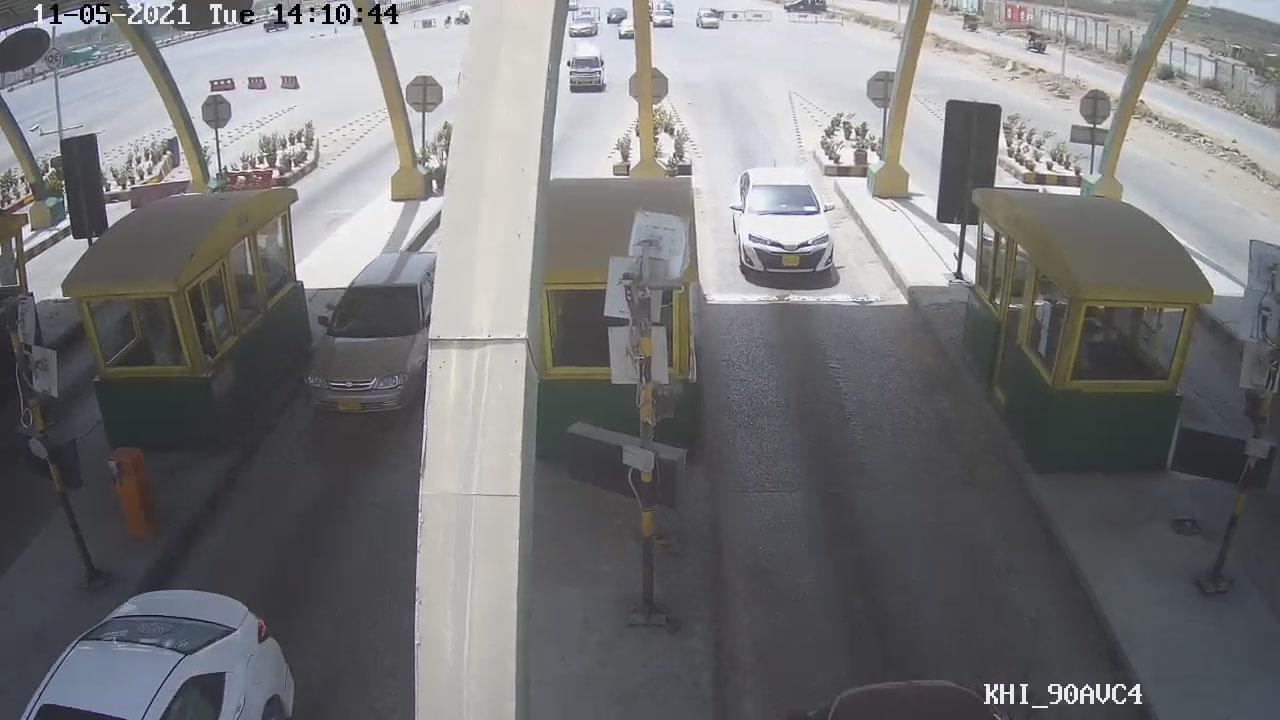F1: (723, 161, 851, 284)
